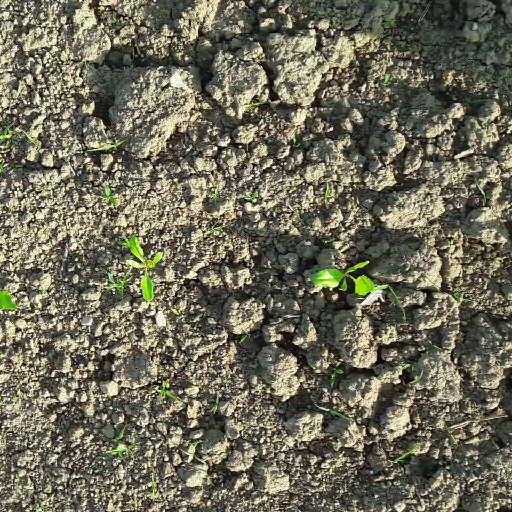sugarbeet: (305, 257, 378, 296), (127, 233, 167, 302), (1, 285, 22, 311)
weed: (151, 377, 185, 407), (1, 129, 45, 152), (313, 401, 357, 423), (101, 272, 134, 300), (398, 353, 426, 385), (106, 440, 143, 461), (81, 137, 129, 152), (392, 439, 416, 465), (325, 364, 348, 389), (202, 390, 221, 416), (199, 223, 230, 238), (100, 186, 120, 207), (208, 185, 222, 206), (148, 472, 158, 499), (378, 70, 393, 86), (326, 182, 336, 203), (245, 191, 260, 203), (241, 101, 263, 108)
